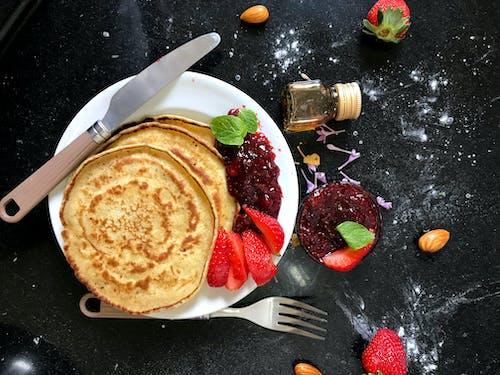knife: (0, 30, 221, 223)
